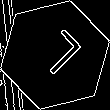L_SW: (26, 26, 84, 84)
